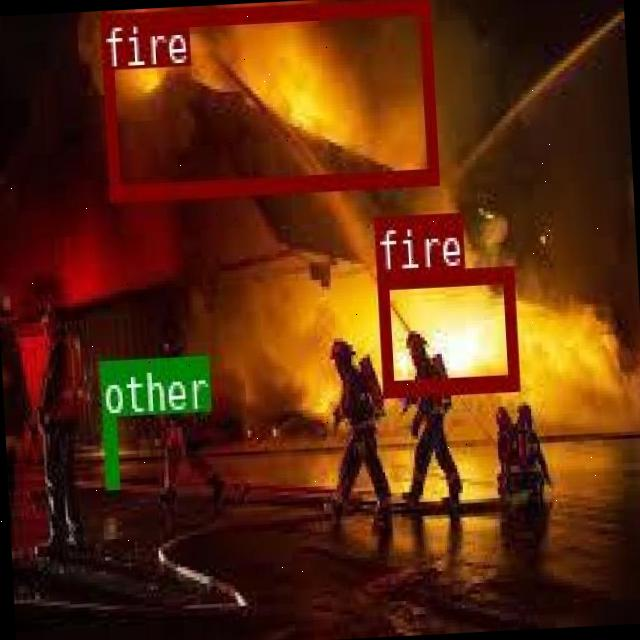fire: (99, 0, 437, 199), (376, 265, 516, 394)
